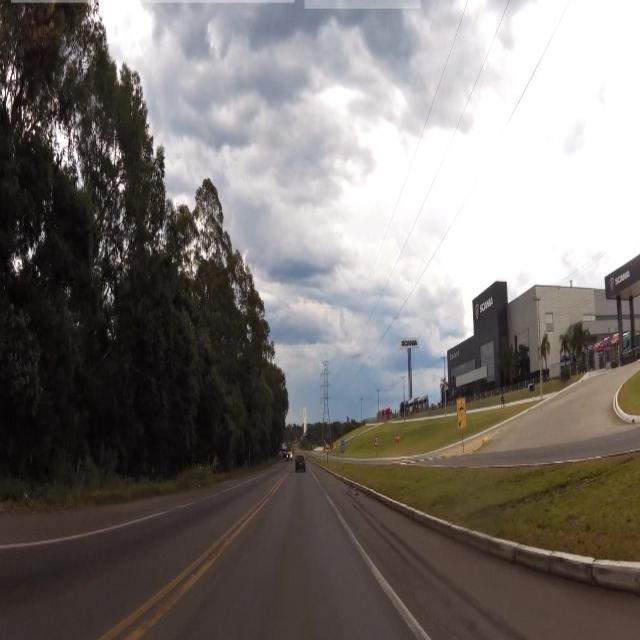A-18: (458, 401, 466, 417)
